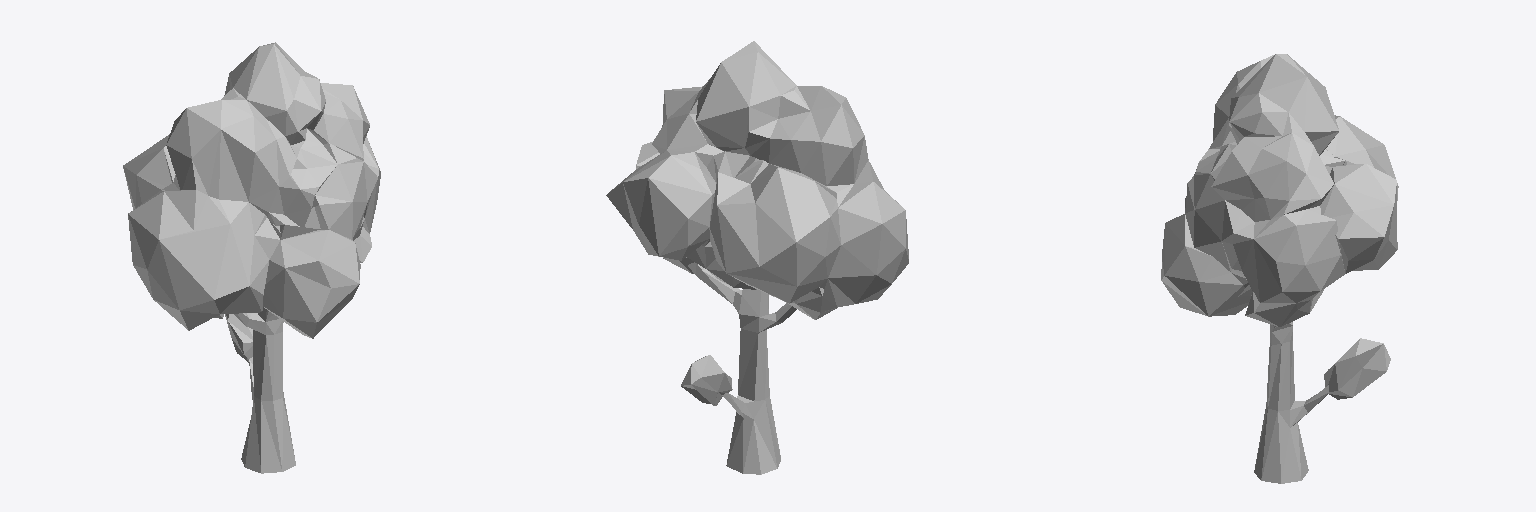
Rendered from tree.obj.
3 renders of one model, left to right at view 1: azimuth 30°, elevation 25°; view 2: azimuth 150°, elevation 25°; view 3: azimuth 270°, elevation 25°, orthographic.
Parts seen in each view (by area): view 1: _4_tree_Icosphere.043; view 2: _4_tree_Icosphere.043; view 3: _4_tree_Icosphere.043.
Boxes of the visible parts, x1=… form: _4_tree_Icosphere.043: x1=123, y1=42, x2=380, y2=473; _4_tree_Icosphere.043: x1=606, y1=41, x2=908, y2=474; _4_tree_Icosphere.043: x1=1161, y1=54, x2=1398, y2=483.
Size of the model in its own units: 1.1 by 1.8 by 0.9209.